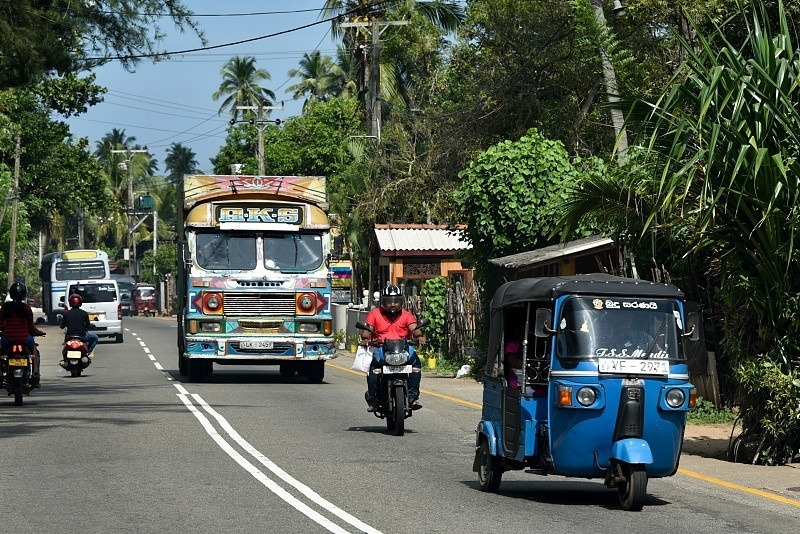non-vehicle: (357, 326, 418, 426), (0, 332, 38, 398), (57, 332, 97, 374)
